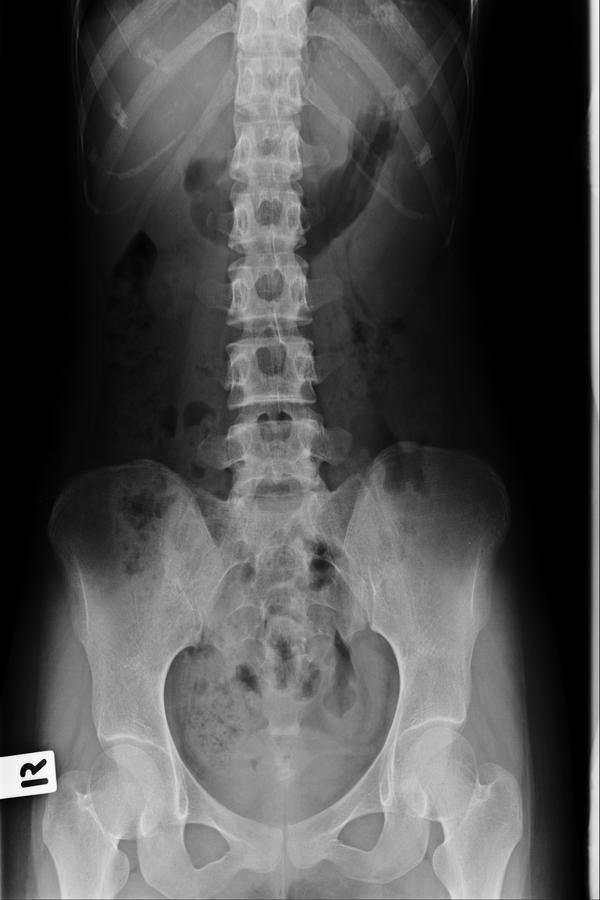not lumbar scoliosis: (225, 166, 327, 550)
